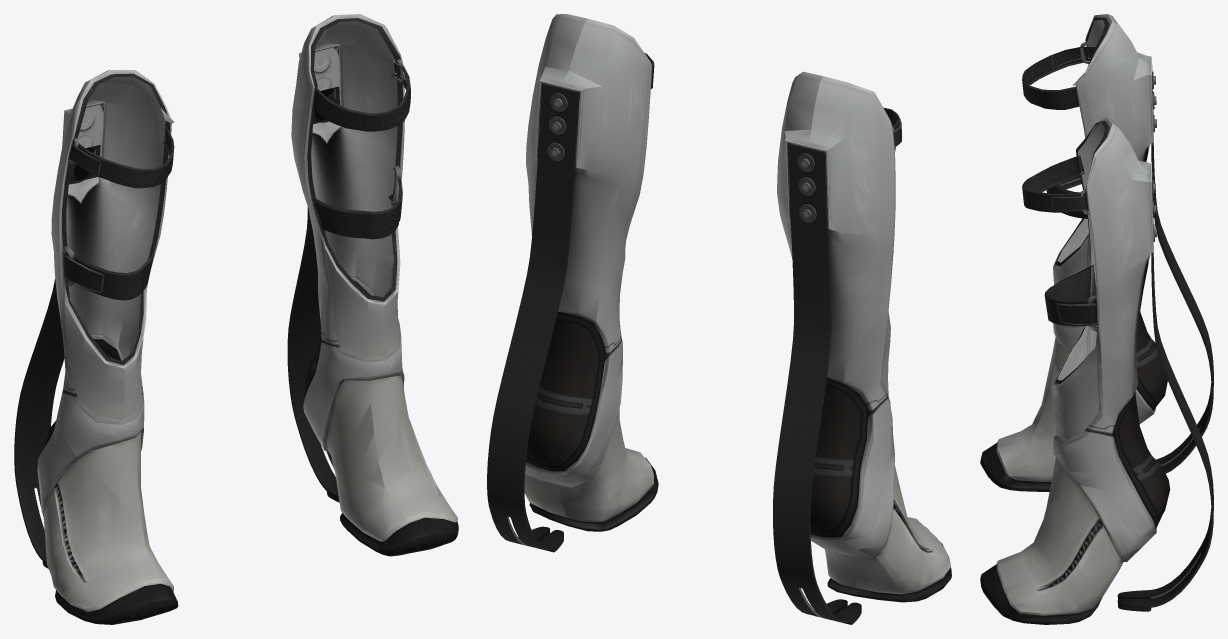
File: portal_2_-_long_fall_boots.glb
The picture shows the model from 3 angles, left to right: view 1: azimuth 30°, elevation 25°; view 2: azimuth 150°, elevation 25°; view 3: azimuth 270°, elevation 25°; orthographic projection. The views are drawn at different scales.
Parts seen in each view (by area): view 1: Object_2; view 2: Object_2; view 3: Object_2.
Boxes of the visible parts, bbox=[...] form: Object_2: bbox=[14, 14, 458, 624]; Object_2: bbox=[487, 14, 951, 624]; Object_2: bbox=[980, 14, 1213, 624].
Size of the model in its own units: 18.75 by 23.3 by 10.59.
1 material, 1 textured.
